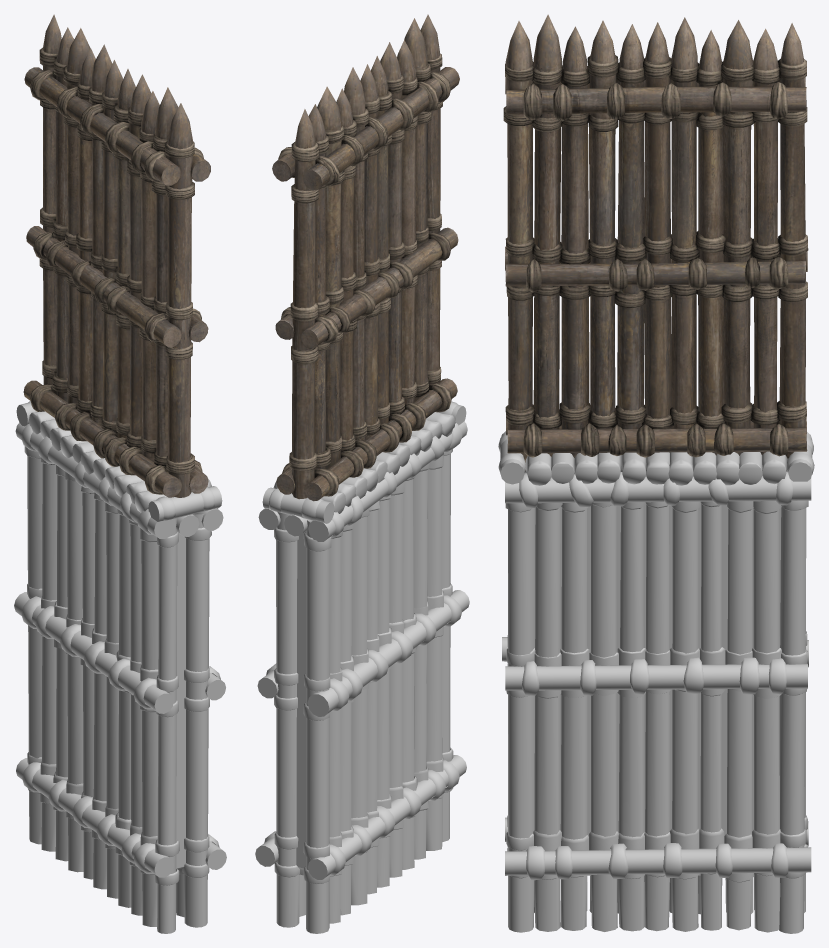
File: DefenceWall_Wood.fbx
3 renders of one model, left to right at view 1: azimuth 30°, elevation 25°; view 2: azimuth 150°, elevation 25°; view 3: azimuth 270°, elevation 25°, orthographic. The views are drawn at different scales.
Parts seen in each view (by area): view 1: SM_DefenseWall_Wood.mo; view 2: SM_DefenseWall_Wood.mo; view 3: SM_DefenseWall_Wood.mo.
Boxes of the visible parts, x1=… form: SM_DefenseWall_Wood.mo: x1=14, y1=14, x2=226, y2=933; SM_DefenseWall_Wood.mo: x1=255, y1=14, x2=469, y2=933; SM_DefenseWall_Wood.mo: x1=498, y1=14, x2=814, y2=933.
Bounding box in the file's own units: 140 × 1342 × 424.
